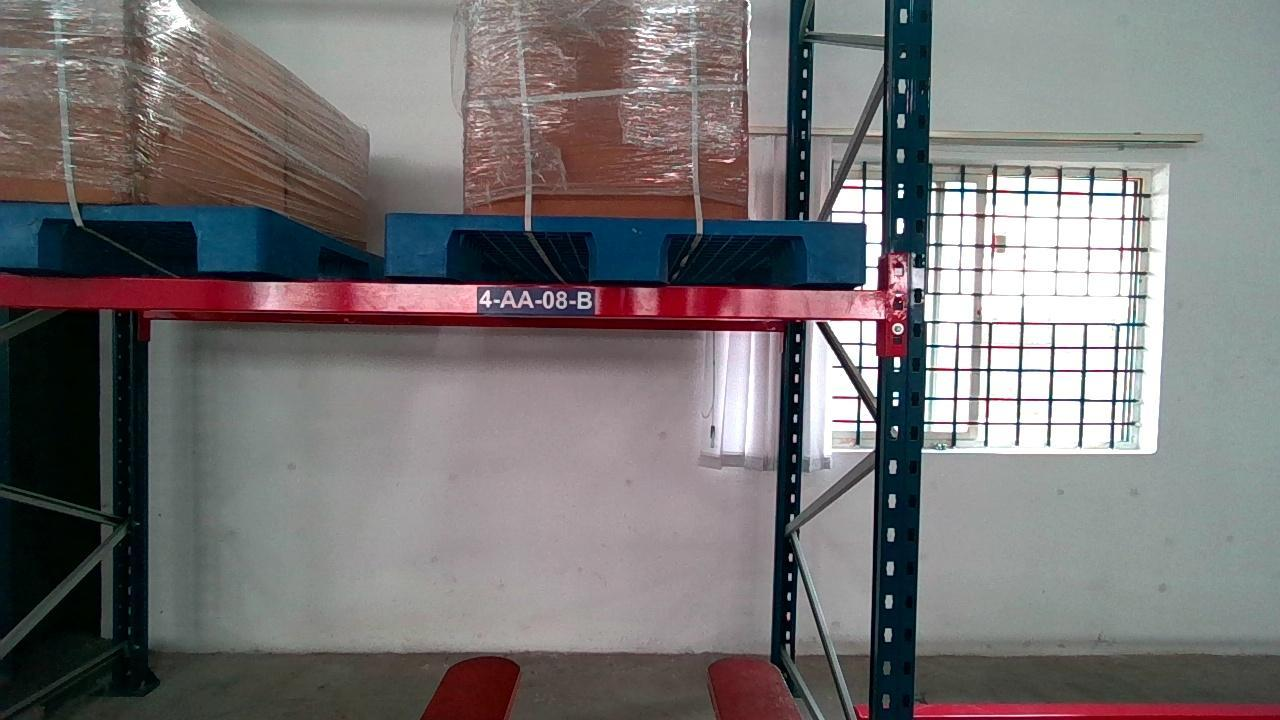h_rack: (3, 273, 889, 319)
small_pallet: (386, 216, 867, 282), (3, 206, 260, 269)
